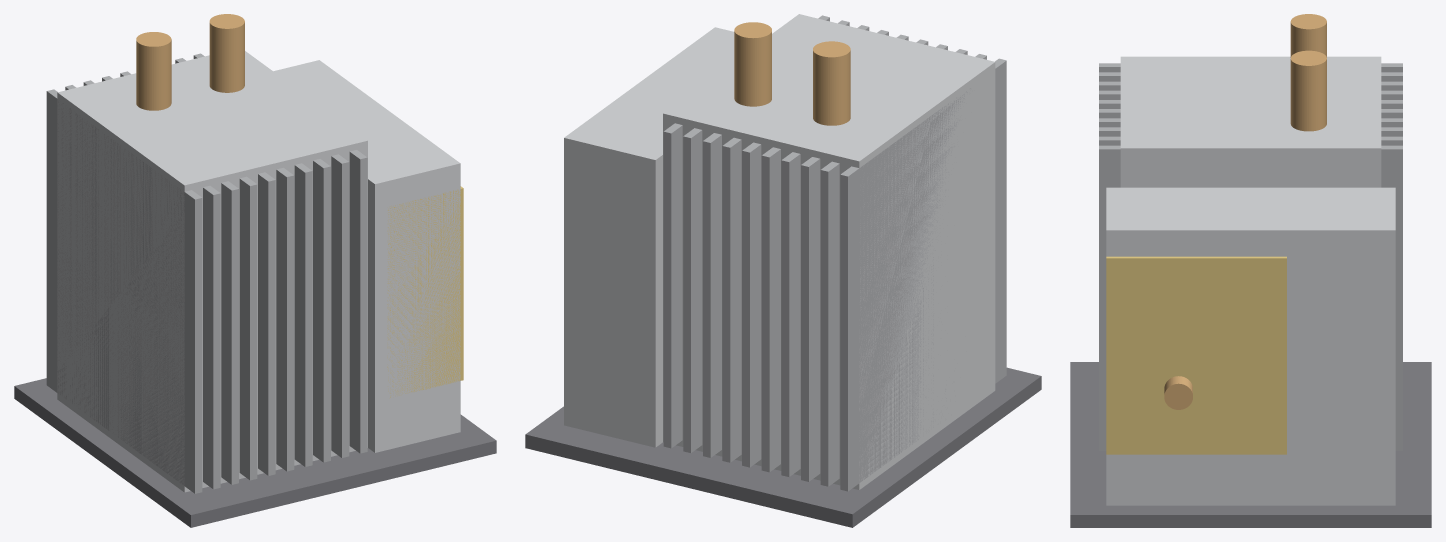
Rendered from power04_fuel_cell.glb.
3 views of the same model, side by side, from view 1: azimuth 30°, elevation 25°; view 2: azimuth 150°, elevation 25°; view 3: azimuth 270°, elevation 25° (orthographic). The views are drawn at different scales.
Parts seen in each view (by area): view 1: bipolar_plates, stack_core, controller, mount_tray, mli_patch, ports; view 2: bipolar_plates, stack_core, controller, mount_tray, ports; view 3: controller, mli_patch, stack_core, mount_tray, bipolar_plates, ports.
Part boxes in pixels (left/top/right/bottom): bipolar_plates: left=46, top=53, right=367, bottom=493; stack_core: left=57, top=51, right=367, bottom=492; controller: left=273, top=60, right=460, bottom=452; mount_tray: left=14, top=378, right=496, bottom=527; mli_patch: left=387, top=186, right=463, bottom=397; ports: left=136, top=14, right=244, bottom=110; bipolar_plates: left=663, top=15, right=1006, bottom=491; stack_core: left=663, top=14, right=995, bottom=489; controller: left=564, top=27, right=734, bottom=447; mount_tray: left=525, top=367, right=1041, bottom=527; ports: left=734, top=22, right=850, bottom=125; controller: left=1106, top=187, right=1395, bottom=505; mli_patch: left=1106, top=256, right=1286, bottom=454; stack_core: left=1120, top=56, right=1381, bottom=187; mount_tray: left=1070, top=362, right=1431, bottom=527; bipolar_plates: left=1099, top=63, right=1402, bottom=450; ports: left=1164, top=14, right=1326, bottom=409.
Size of the model in its own units: 0.5 by 0.6 by 0.5.
